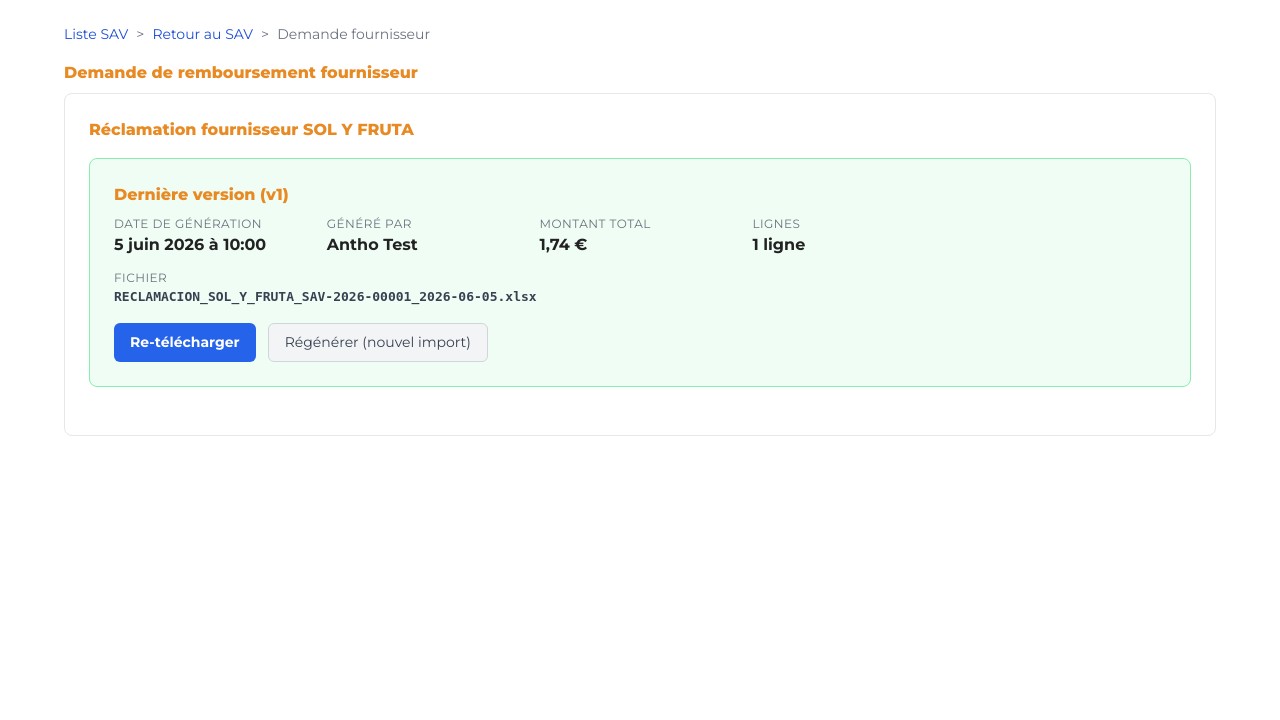
Test case: HIST-UI-07: click [Confirmer] → transition vers awaiting-upload + reset() (AC #6l, AC #7) › HIST-UI-07a: click "Régénérer" → [Confirmer] → état awaiting-upload visible + file-input présent (M1 fix — vérification reset via UI)
Click the button with test id "regenerate-btn" at {"x": 378, "y": 342}, box [268,322,488,362]
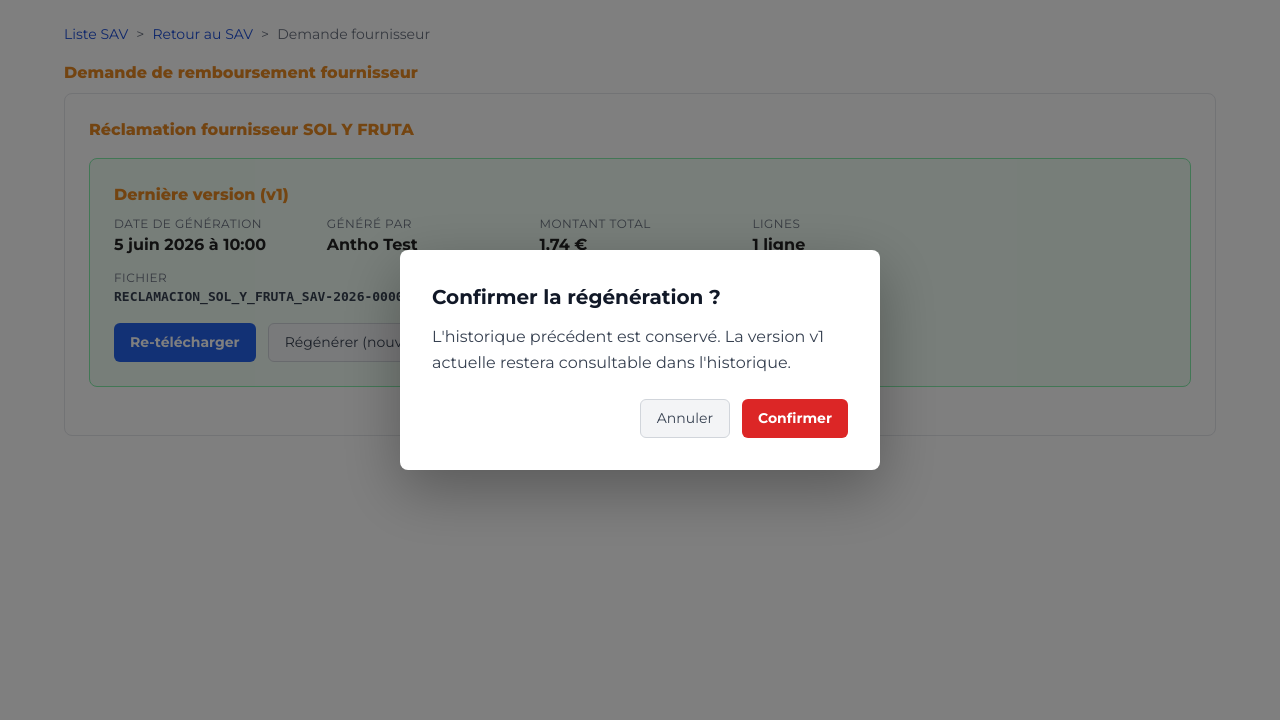
Click the button with test id "regenerate-confirm-btn" at {"x": 795, "y": 419}, box [742,399,848,438]
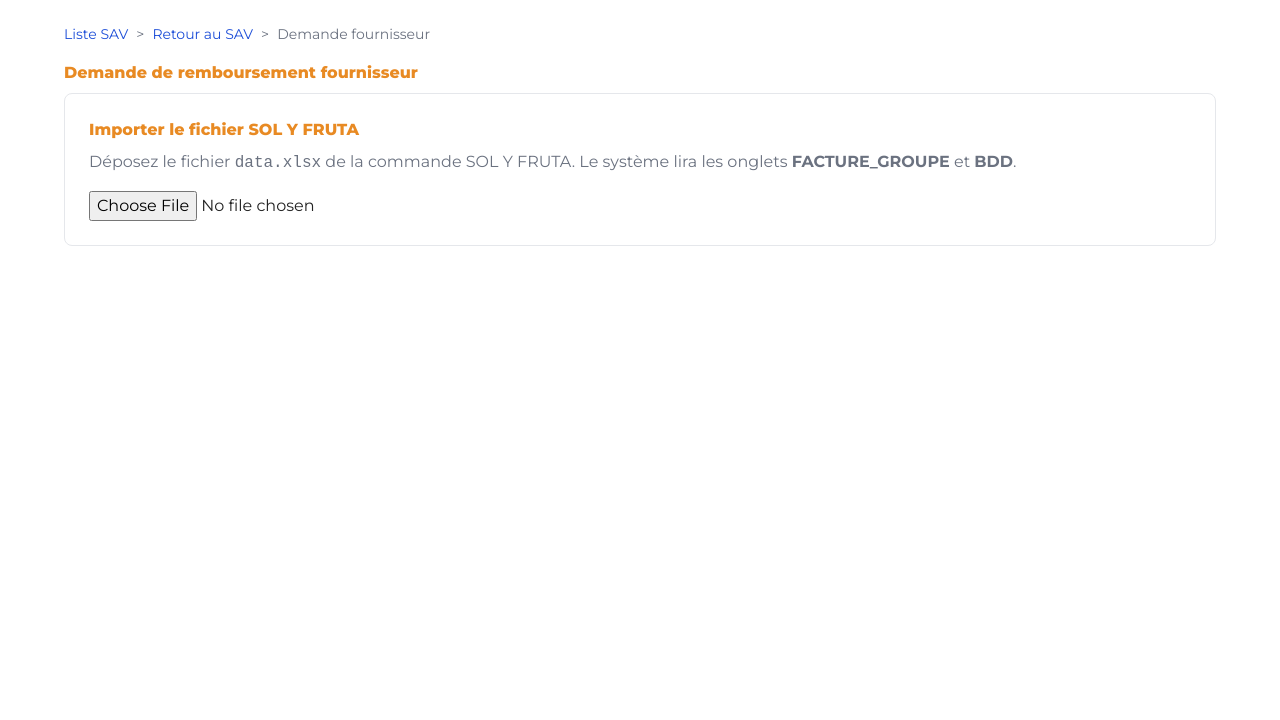
Expected: the file field with test id "file-input" is enabled, [89,191,450,221]
